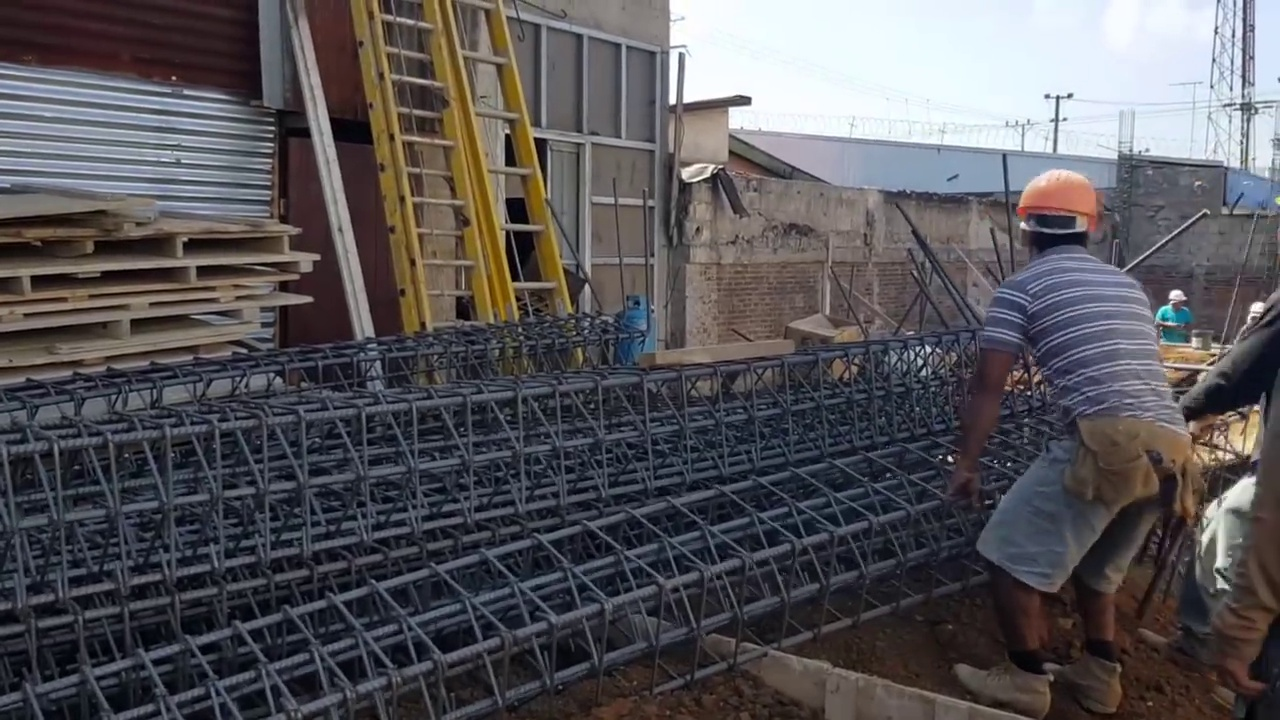helmet: (1016, 170, 1102, 229), (1249, 302, 1266, 320), (1167, 290, 1187, 302)
helmet-on: (1015, 168, 1098, 262), (1166, 289, 1186, 311)
person: (949, 162, 1197, 691), (1187, 288, 1280, 704), (1154, 289, 1193, 344)
